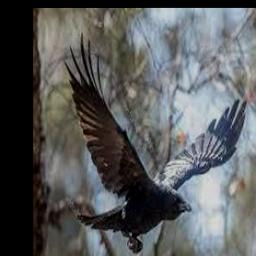Crow: (64, 33, 248, 254)
